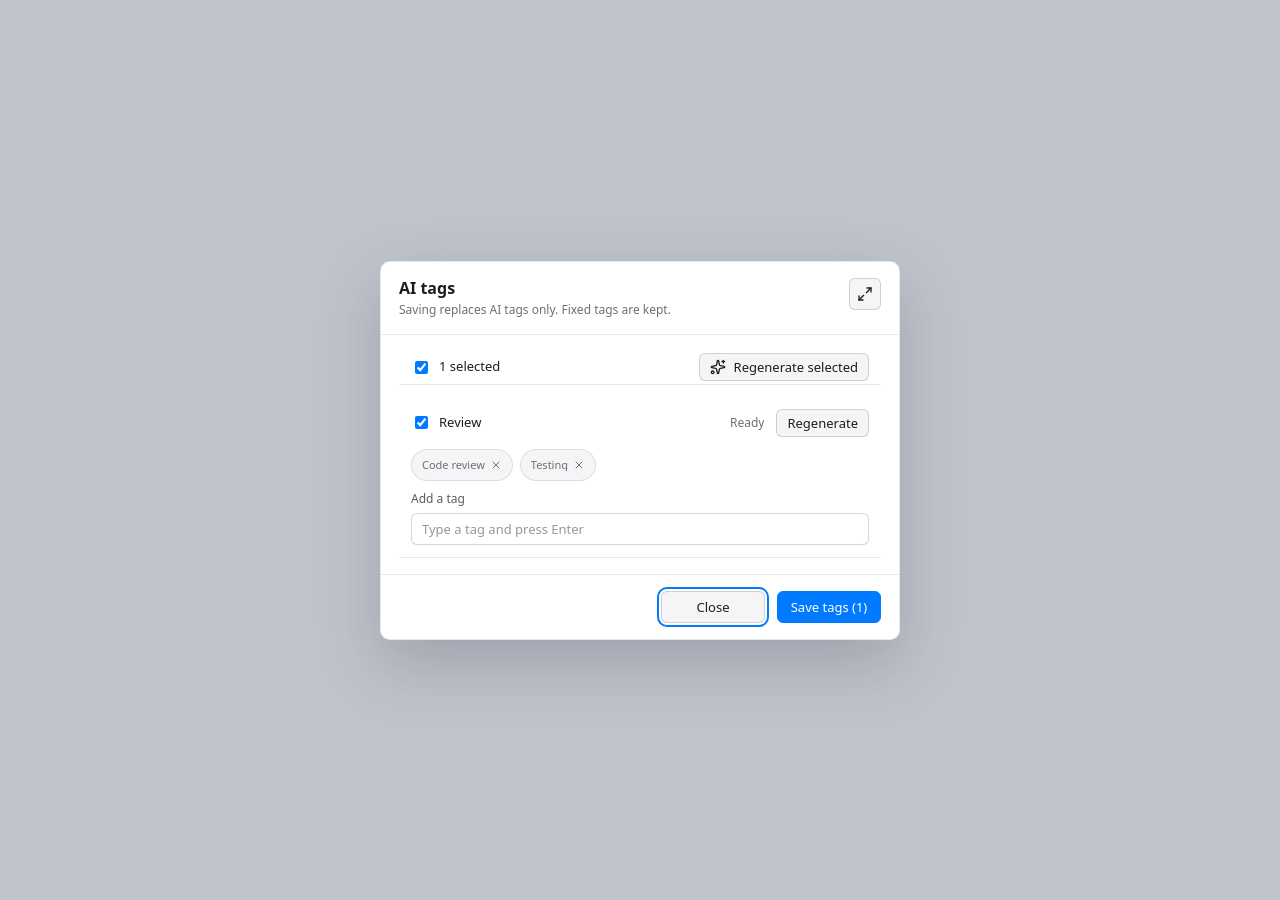
Scenario: AI tag review › does not discard prior suggestions on failed regeneration
The width and height of the screenshot is (1280, 900).
Click the button "Regenerate": (823, 422) [776,408,869,436]
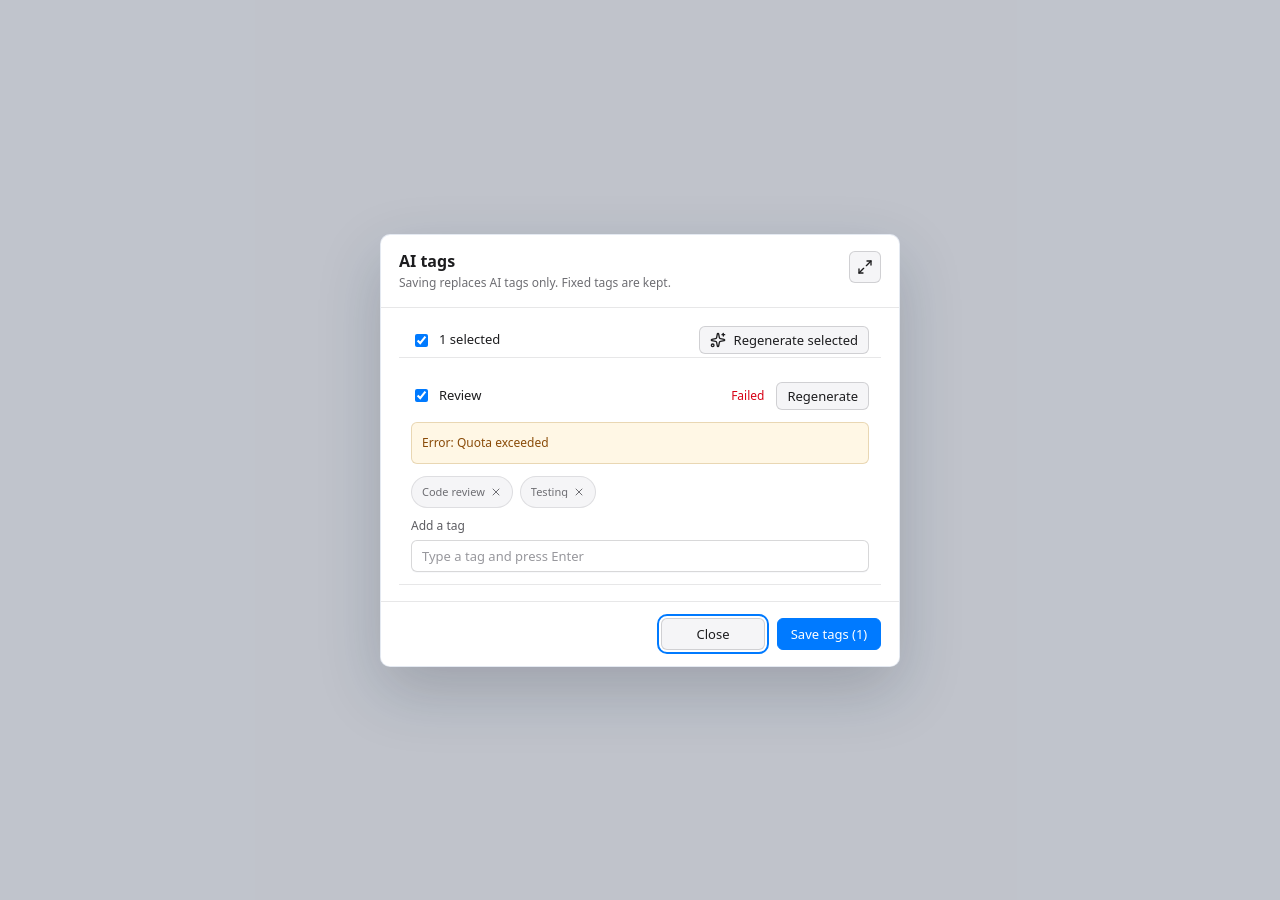
Expected: the button with aria-label "Remove tag Code review" is shown, [411,476,513,508]
Expected: the text "Error: Quota exceeded" is shown, [422,434,549,451]
